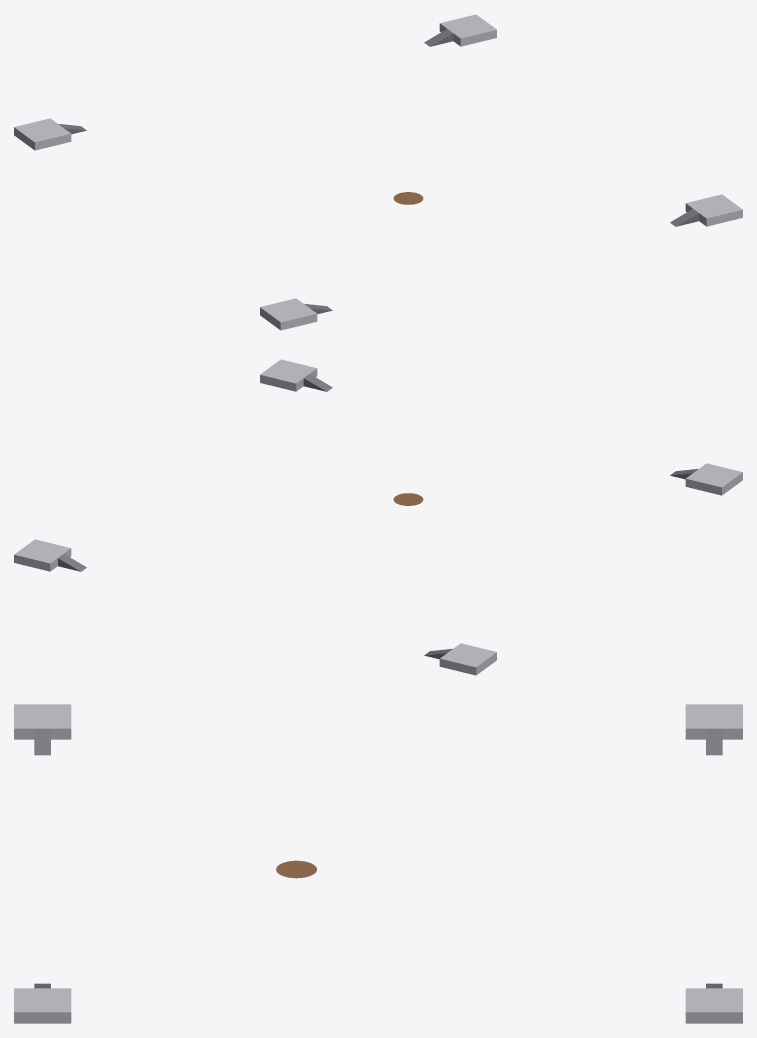
The model's file is ChocolateFactory_Terrain.fbx.
3 renders of one model, top to bottom at view 1: azimuth 30°, elevation 25°; view 2: azimuth 150°, elevation 25°; view 3: azimuth 270°, elevation 25°, orthographic. The views are drawn at different scales.
Visible parts, largest first — view 1: CHO_WorkPlatform_02, CHO_WorkPlatform_03, CHO_WorkPlatform, CHO_WorkPlatform_01; view 2: CHO_WorkPlatform_03, CHO_WorkPlatform_02, CHO_WorkPlatform_01, CHO_WorkPlatform; view 3: CHO_WorkPlatform, CHO_WorkPlatform_01, CHO_WorkPlatform_02, CHO_WorkPlatform_03, CHO_ChocolateTank_OutflowPool.
Boxes of the visible parts, x1,y1,x2,y2 form: CHO_WorkPlatform_02: (14, 118, 71, 150); CHO_WorkPlatform_03: (260, 298, 317, 330); CHO_WorkPlatform: (439, 14, 496, 46); CHO_WorkPlatform_01: (685, 194, 742, 226); CHO_WorkPlatform_03: (685, 463, 742, 495); CHO_WorkPlatform_02: (439, 643, 496, 675); CHO_WorkPlatform_01: (260, 359, 317, 391); CHO_WorkPlatform: (14, 539, 71, 571); CHO_WorkPlatform: (685, 988, 742, 1023); CHO_WorkPlatform_01: (14, 988, 71, 1023); CHO_WorkPlatform_02: (685, 704, 742, 739); CHO_WorkPlatform_03: (14, 704, 71, 739); CHO_ChocolateTank_OutflowPool: (276, 860, 316, 878).
Bounding box in the file's own units: 178 × 3 × 178.
